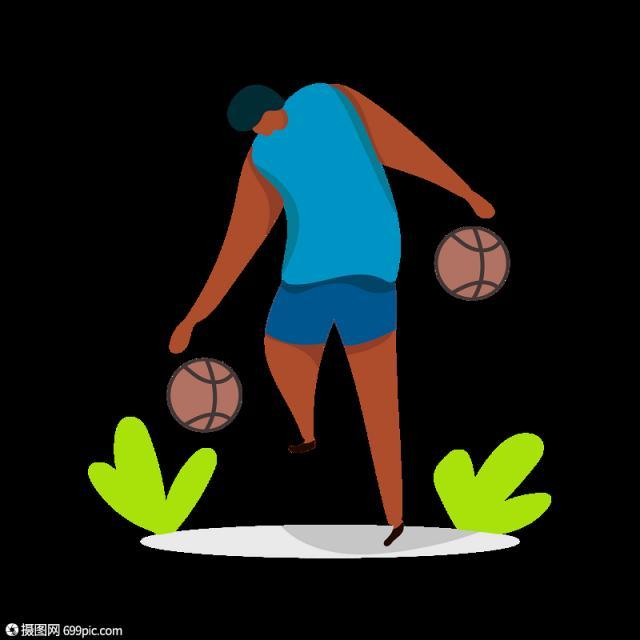rim: (436, 224, 512, 300), (165, 358, 242, 431)
